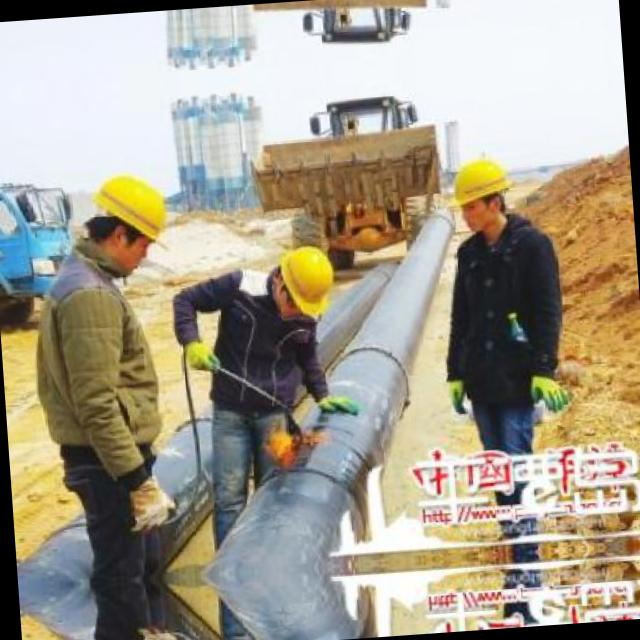helmet: (78, 161, 181, 280), (448, 146, 518, 236), (269, 236, 340, 314)
